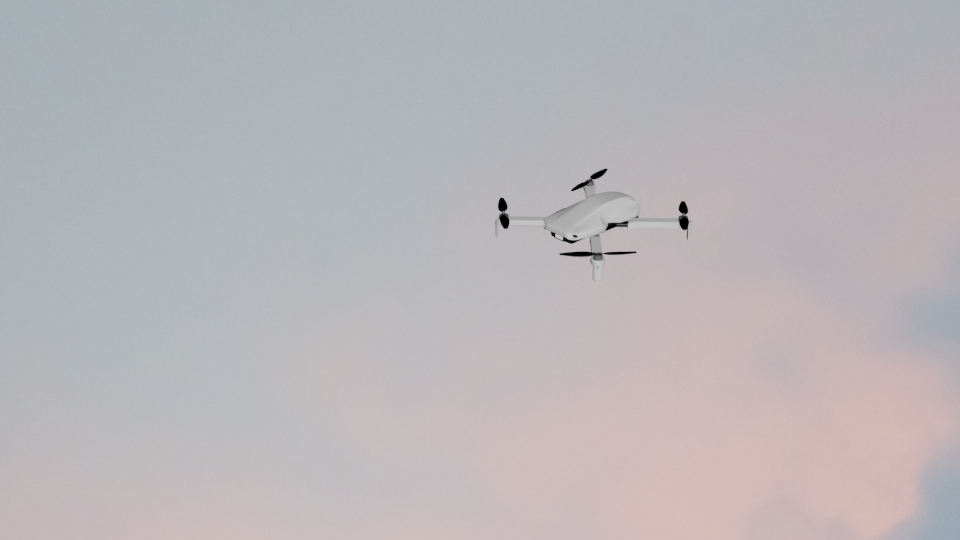drone: (489, 167, 689, 283)
